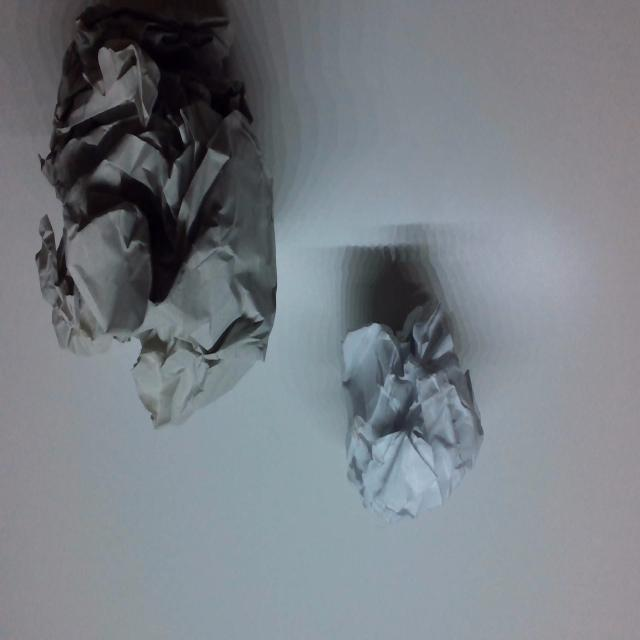Paper: (36, 0, 280, 424), (346, 253, 488, 512)
